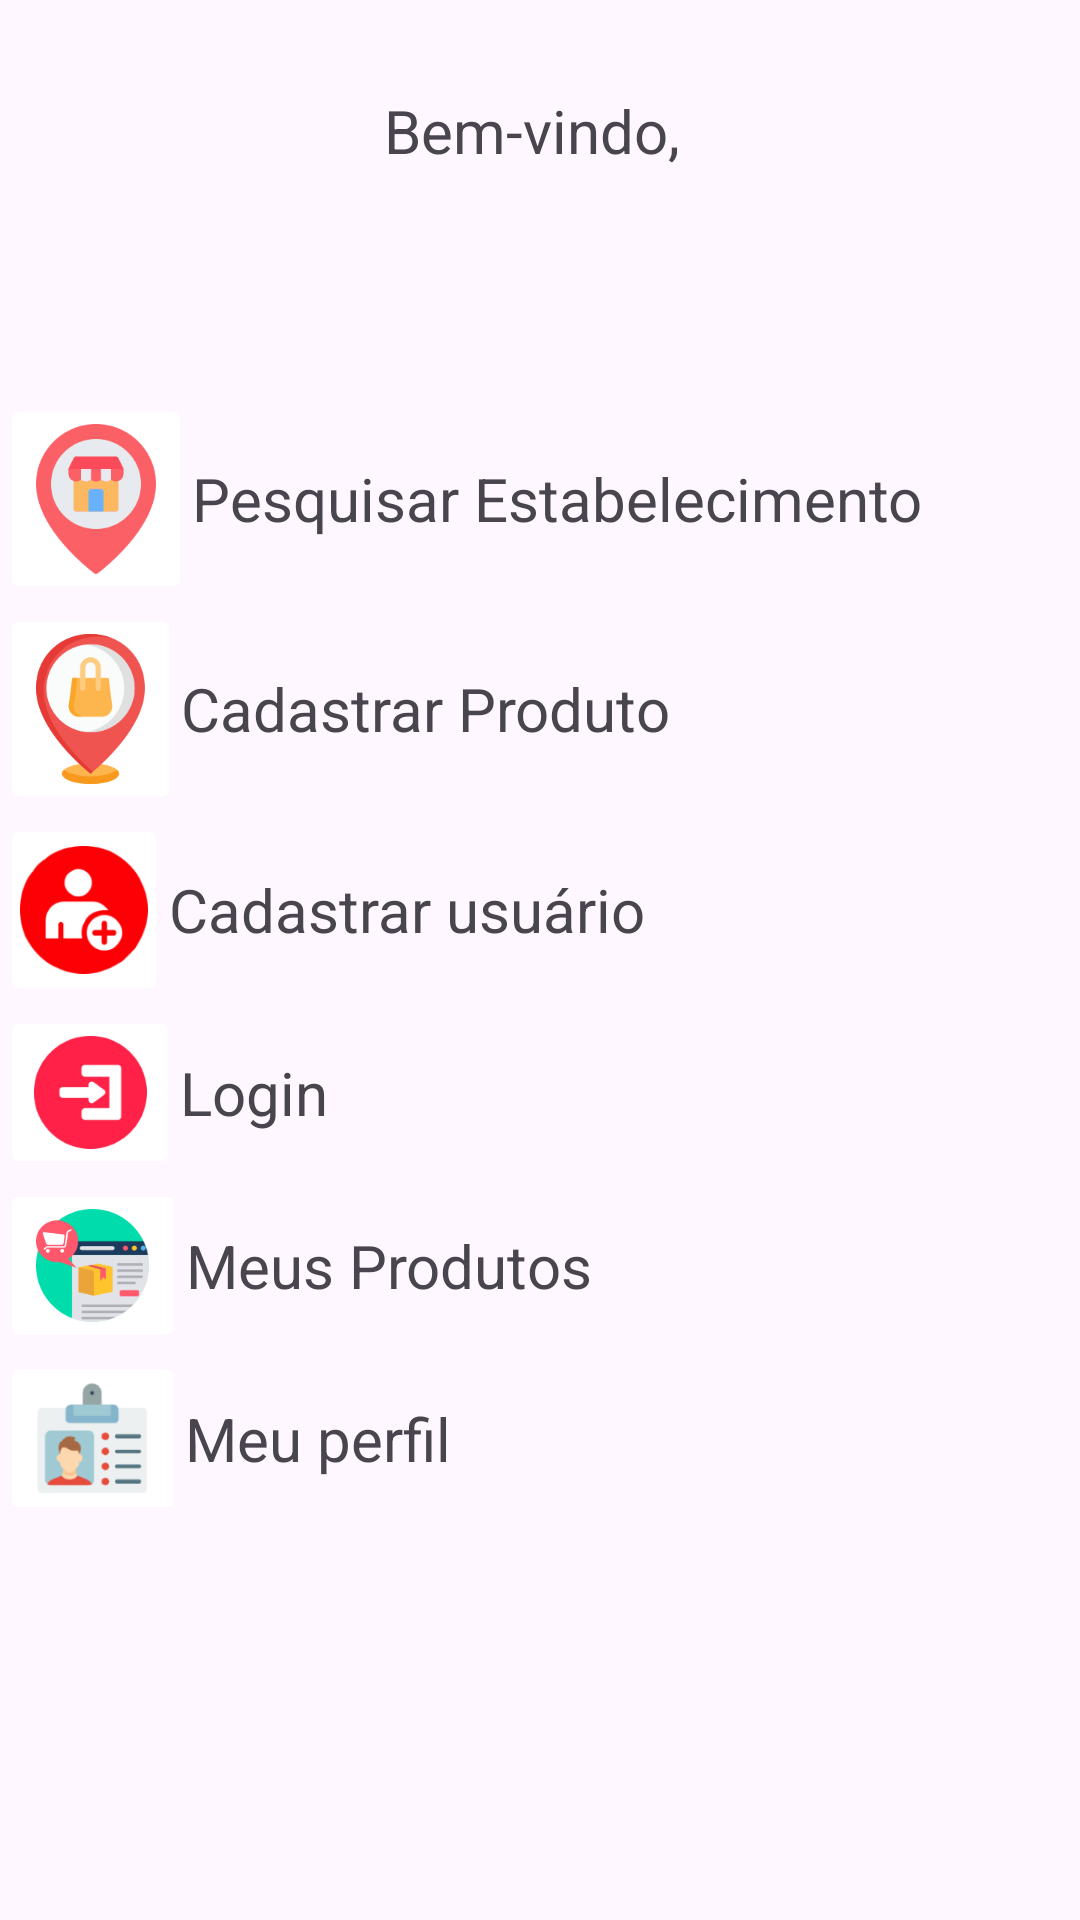

Icons on this 1080 × 1920 Android screen, each with its box as (x1, y1, x2, y2):
Cadastrar usuario: (20, 846, 148, 974)
